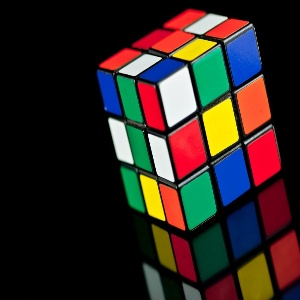cube: (96, 10, 281, 235)
